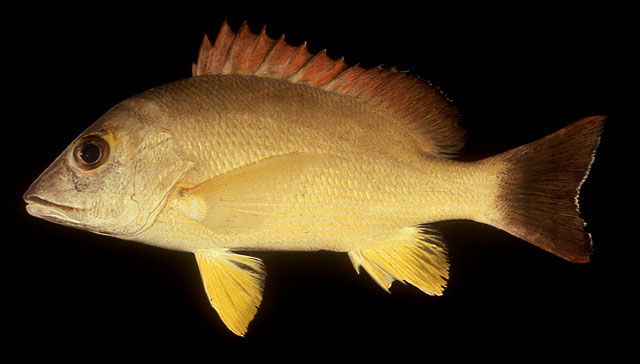fish: (23, 21, 606, 338)
